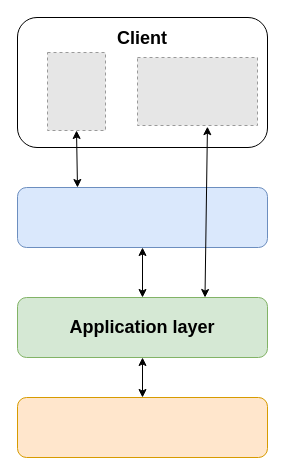
Some shapes in this 285 by 475 pixel diagram are drawn without their labels. Grey dashed boxes stand in for pictures. Each missing label, with the centre of its shape:
"Database" goes at (142,427).
"Web layer" goes at (142,217).
